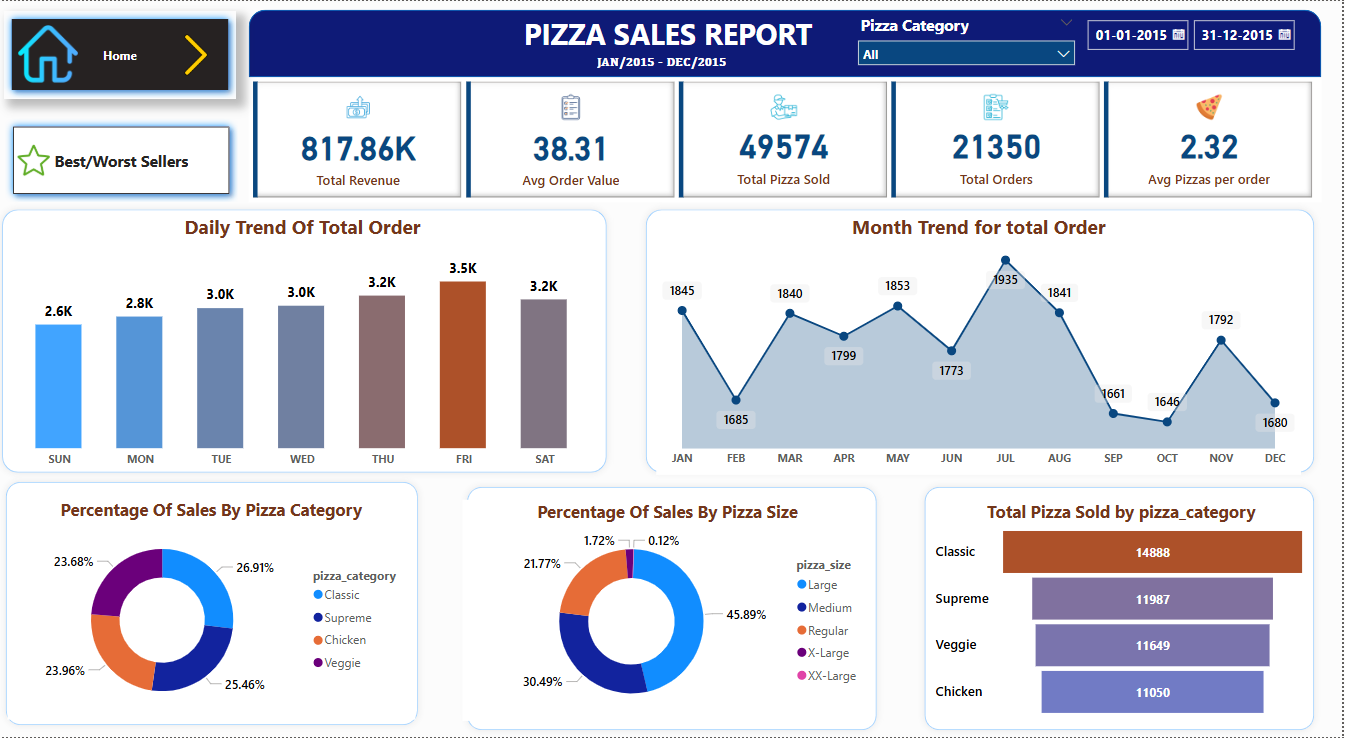

The page's visual inventory and layout, read from the dashboard file:
{"tool":"powerbi","page":{"name":"Home","canvas":[1500,820],"ordinal":0},"visuals":[{"type":"cardVisual","fields":{"Data":["pizza_sales.Total Revenue","pizza_sales.Avg Order Value","pizza_sales.Total Pizza Sold","pizza_sales.Total Orders","pizza_sales.Avg Pizzas per order"]},"box":[282.7,85,1194.9,139.3],"z":0},{"type":"shape","box":[282.7,9.7,1194.9,75.2],"z":1000},{"type":"textbox","box":[548.7,344,402.5,50.1],"z":2000},{"type":"textbox","box":[568.2,9.7,363.5,54.3],"z":3000},{"type":"textbox","box":[665.7,52.9,169.9,32],"z":4000},{"type":"shape","box":[0,224.2,689.4,309.2],"z":5000},{"type":"columnChart","title":"Daily Trend Of Total Order","fields":{"Category":["pizza_sales.Order Day"],"Y":["pizza_sales.Total Orders"]},"box":[4.2,236.8,676.8,291.1],"z":6000},{"type":"shape","box":[717.2,224.2,760.4,309.2],"z":7000},{"type":"areaChart","title":"Month Trend for total Order","fields":{"Y":["pizza_sales.Total Orders"],"Category":["pizza_sales.Order Month"]},"box":[736.7,236.8,718.6,291.1],"z":8000},{"type":"shape","box":[4.2,527.8,474.9,286.9],"z":9000},{"type":"shape","box":[1027.8,533.4,449.8,286.9],"z":10000},{"type":"shape","box":[518.1,533.4,472.1,286.9],"z":12000},{"type":"donutChart","title":"Percentage Of Sales By Pizza Category","fields":{"Category":["pizza_sales.pizza_category"],"Y":["pizza_sales.Total Revenue"]},"box":[13.9,554.3,454,246.5],"z":13000},{"type":"donutChart","title":"Percentage Of Sales By Pizza Size","fields":{"Y":["pizza_sales.Total Revenue"],"Category":["pizza_sales.pizza_size"]},"box":[520.9,555.7,456.8,246.5],"z":14000},{"type":"funnel","fields":{"Category":["pizza_sales.pizza_category"],"Y":["pizza_sales.Total Pizza Sold"]},"box":[1043.1,555.7,423.4,247.9],"z":15000},{"type":"slicer","fields":{"Values":["pizza_sales.pizza_category"]},"box":[951.2,9.7,261.8,73.8],"z":16000},{"type":"slicer","fields":{"Values":["pizza_sales.order_date"]},"box":[1204.7,11.1,261.8,72.4],"z":17000},{"type":"pageNavigator","box":[10,11.1,259,97.5],"z":18000},{"type":"pageNavigator","box":[11.1,130.9,259,93.3],"z":19000},{"type":"image","box":[196.4,29.2,55.7,61.3],"z":20000},{"type":"image","box":[19.5,20.9,79.4,76.6],"z":21000},{"type":"image","box":[13.9,154.6,58.5,46],"z":22000}]}

Visuals, with their boxes in screenshot pixels (x1, y1, x2, y2), scaled from the page's 1500x820 canvas onto the 1345x738 screenshot:
cardVisual - pizza_sales.Total Revenue x pizza_sales.Avg Order Value: region(253, 76, 1325, 202)
shape: region(253, 9, 1325, 76)
textbox: region(492, 310, 853, 355)
textbox: region(509, 9, 835, 58)
textbox: region(597, 48, 749, 76)
shape: region(0, 202, 618, 480)
"Daily Trend Of Total Order" columnChart: region(4, 213, 611, 475)
shape: region(643, 202, 1325, 480)
"Month Trend for total Order" areaChart: region(661, 213, 1305, 475)
shape: region(4, 475, 430, 733)
shape: region(922, 480, 1325, 737)
shape: region(465, 480, 888, 737)
"Percentage Of Sales By Pizza Category" donutChart: region(12, 499, 420, 721)
"Percentage Of Sales By Pizza Size" donutChart: region(467, 500, 877, 722)
funnel - pizza_sales.pizza_category x pizza_sales.Total Pizza Sold: region(935, 500, 1315, 723)
slicer - pizza_sales.pizza_category: region(853, 9, 1088, 75)
slicer - pizza_sales.order_date: region(1080, 10, 1315, 75)
pageNavigator: region(9, 10, 241, 98)
pageNavigator: region(10, 118, 242, 202)
image: region(176, 26, 226, 81)
image: region(17, 19, 89, 88)
image: region(12, 139, 65, 181)
